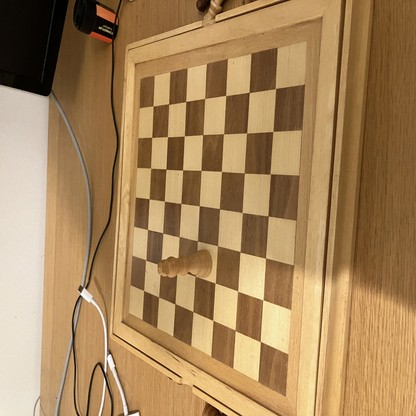king_white: (158, 250, 214, 279)
